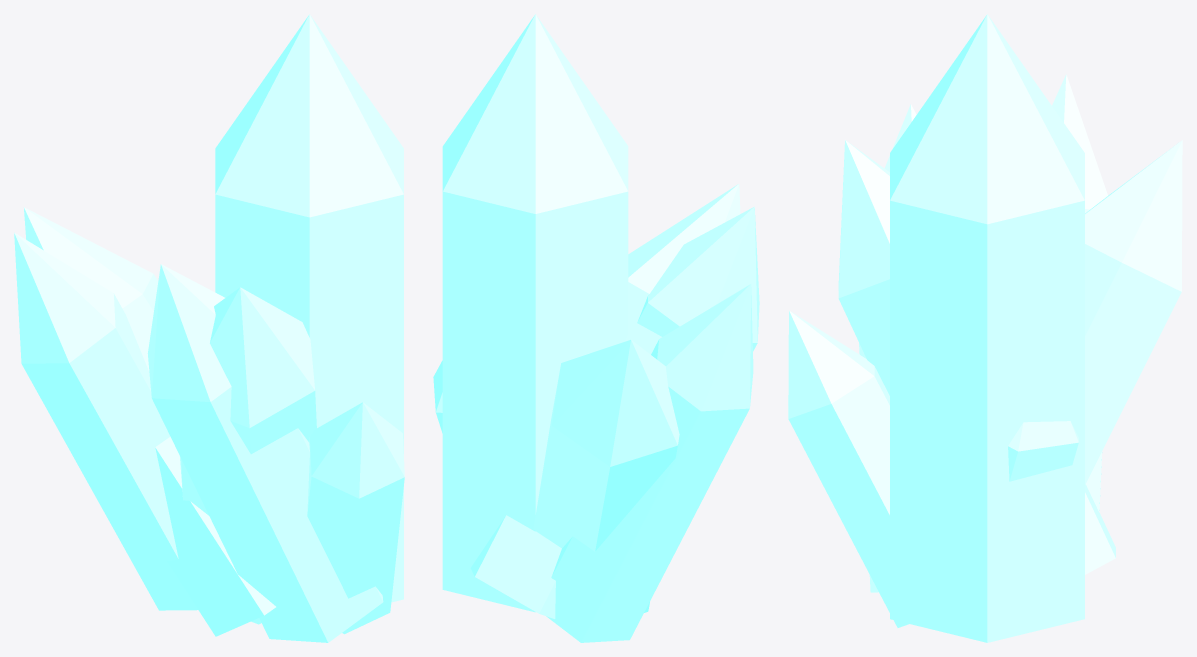
File: crystal_a.glb
3 renders of one model, left to right at view 1: azimuth 30°, elevation 25°; view 2: azimuth 150°, elevation 25°; view 3: azimuth 270°, elevation 25°, orthographic. The views are drawn at different scales.
Parts seen in each view (by area): view 1: crystal_a; view 2: crystal_a; view 3: crystal_a.
Boxes of the visible parts, x1,y1,x2,y2 form: crystal_a: (14, 14, 404, 642); crystal_a: (433, 14, 759, 642); crystal_a: (788, 14, 1182, 642).
Bounding box in the file's own units: 0.853 × 1.39 × 0.8009.
